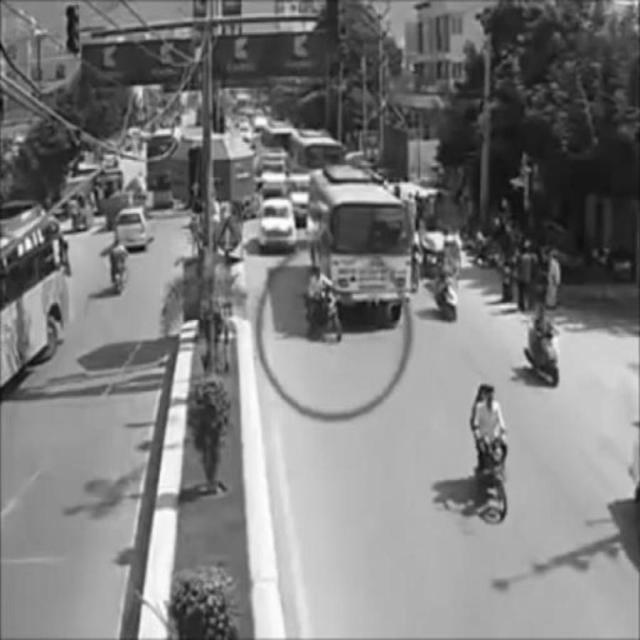vehicle: (311, 172, 411, 320), (473, 377, 511, 513), (304, 272, 342, 343), (525, 312, 560, 385), (432, 258, 464, 320), (263, 201, 297, 248), (114, 209, 149, 244), (107, 239, 129, 291)
